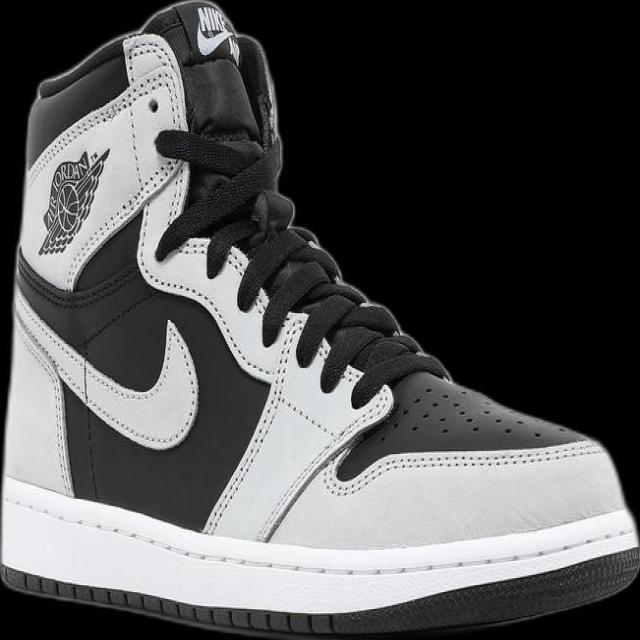J1_InsoleChar: (0, 0, 638, 639)
J1_ShoeLogo: (36, 146, 110, 256)
J1_StitchPattern: (151, 125, 450, 406), (1, 521, 637, 634), (2, 485, 638, 591), (236, 224, 450, 404), (321, 378, 601, 499), (13, 289, 201, 451), (1, 565, 336, 636), (153, 126, 283, 265), (321, 436, 604, 497), (235, 224, 344, 344), (404, 382, 540, 441), (192, 3, 242, 65), (194, 4, 235, 38)
